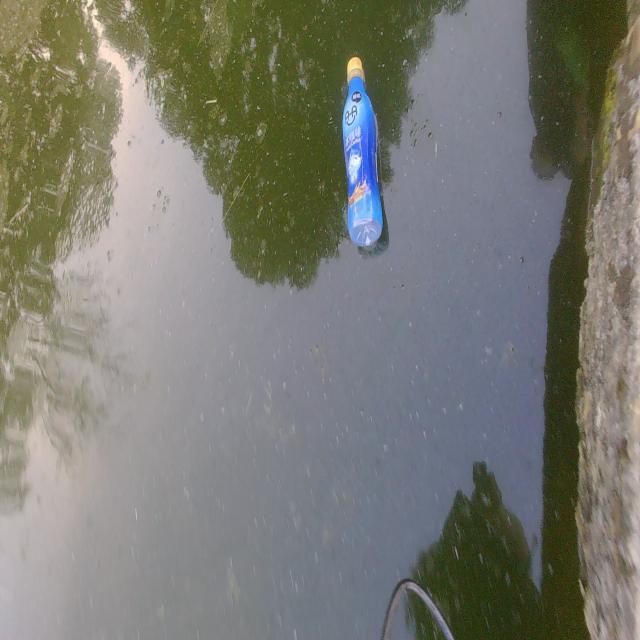bottle: (315, 18, 411, 298)
